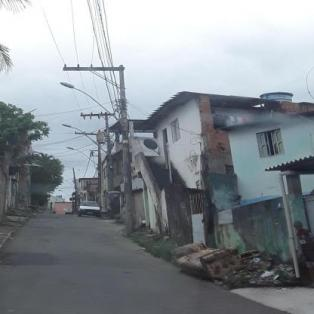Poste: (116, 64, 138, 234)
